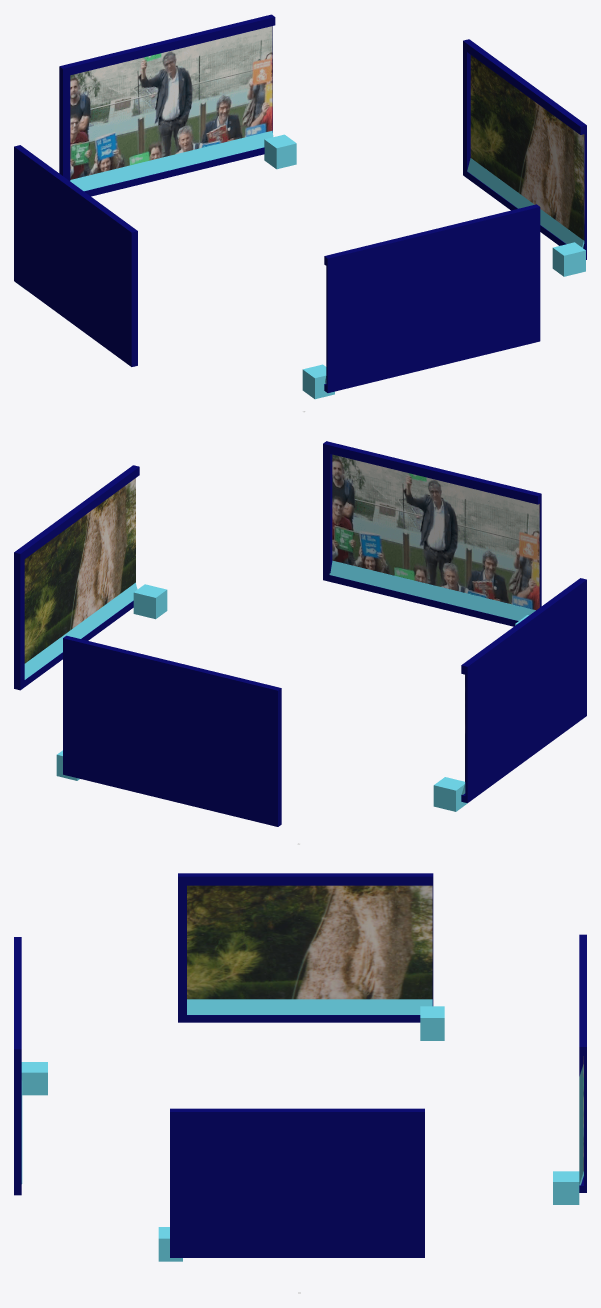
The model's file is bundle002.glb.
3 views of the same model, one above another, from view 1: azimuth 30°, elevation 25°; view 2: azimuth 150°, elevation 25°; view 3: azimuth 270°, elevation 25° (orthographic). The views are drawn at different scales.
Parts seen in each view (by area): view 1: Cube.013, Cube, Cube.005, Cube.008, Cube.002, Cube.010, Cube.001, Cube.009, Cube.011, Cube.003, Cube.012; view 2: Cube.002, Cube.015, Cube.005, Cube.008, Cube.013, Cube.010, Cube.014, Cube.009, Cube.011, Cube.004; view 3: Cube.010, Cube.007, Cube.005, Cube.006, Cube.013, Cube.002, Cube.003, Cube.012, Cube.004, Cube.001.
Part boxes in pixels (x1,y1,x2,y2): Cube.013: (324,204,540,392); Cube: (70,26,272,179); Cube.005: (14,145,137,366); Cube.008: (470,55,584,240); Cube.002: (59,14,275,196); Cube.010: (463,39,586,259); Cube.001: (70,130,273,191); Cube.009: (467,158,584,247); Cube.011: (552,242,585,276); Cube.003: (264,134,296,169); Cube.012: (302,364,334,399); Cube.002: (63,635,281,826); Cube.015: (332,454,539,610); Cube.005: (461,578,586,803); Cube.008: (24,478,135,663); Cube.013: (323,441,541,626); Cube.010: (14,465,139,690); Cube.014: (329,560,535,620); Cube.009: (24,583,137,679); Cube.011: (133,584,167,619); Cube.004: (433,777,467,811); Cube.010: (170,1108,424,1257); Cube.007: (187,885,432,999); Cube.005: (178,873,433,1022); Cube.006: (187,999,432,1014); Cube.013: (14,937,21,1195); Cube.002: (579,934,586,1192); Cube.003: (553,1171,579,1204); Cube.012: (21,1062,47,1095); Cube.004: (420,1006,444,1040); Cube.001: (579,1064,583,1185).
Size of the model in its own units: 4.01 by 2.34 by 4.07.
16 materials, 4 textured.
